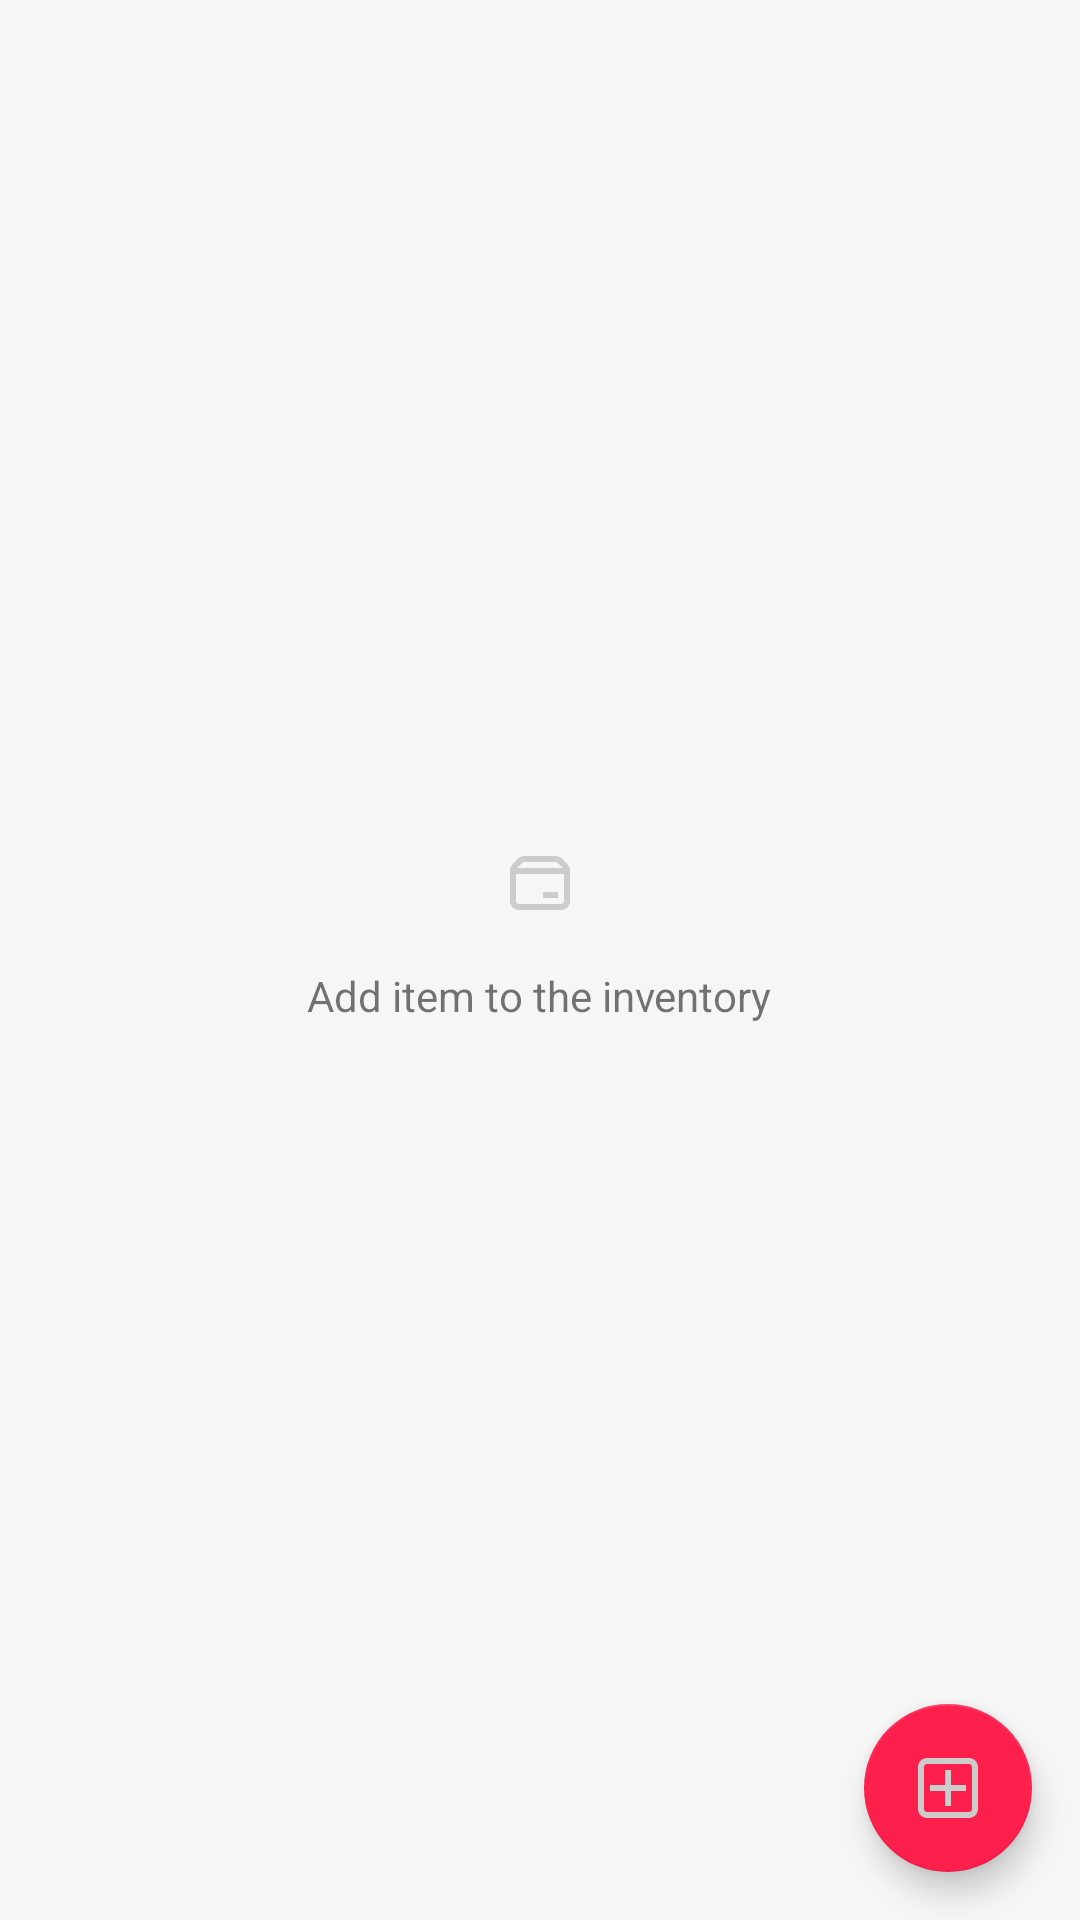

Icon bounding boxes for this 1080 × 1920 phone screenshot, format (x1, y1, x2, y2):
add: (864, 1704, 1032, 1872)
product: (510, 856, 570, 910)
